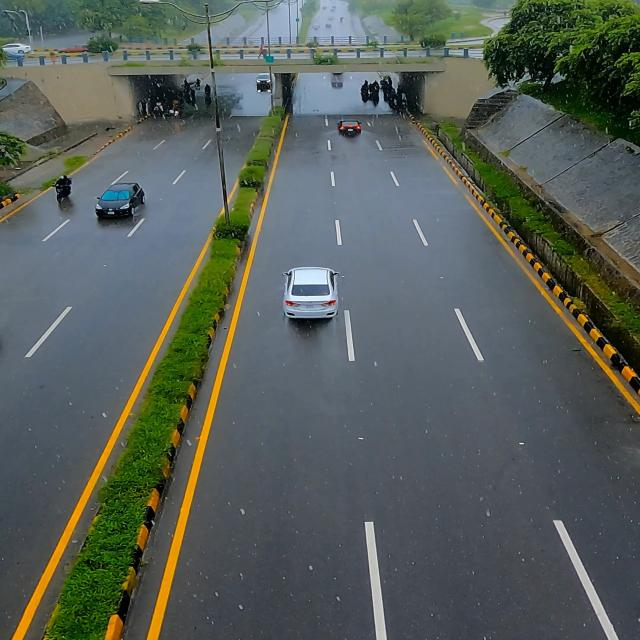Car: (277, 267, 341, 329), (92, 178, 147, 225), (333, 117, 363, 139)
